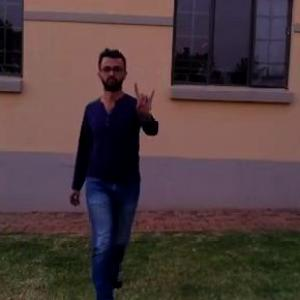takeoff-hand: (128, 80, 160, 125)
